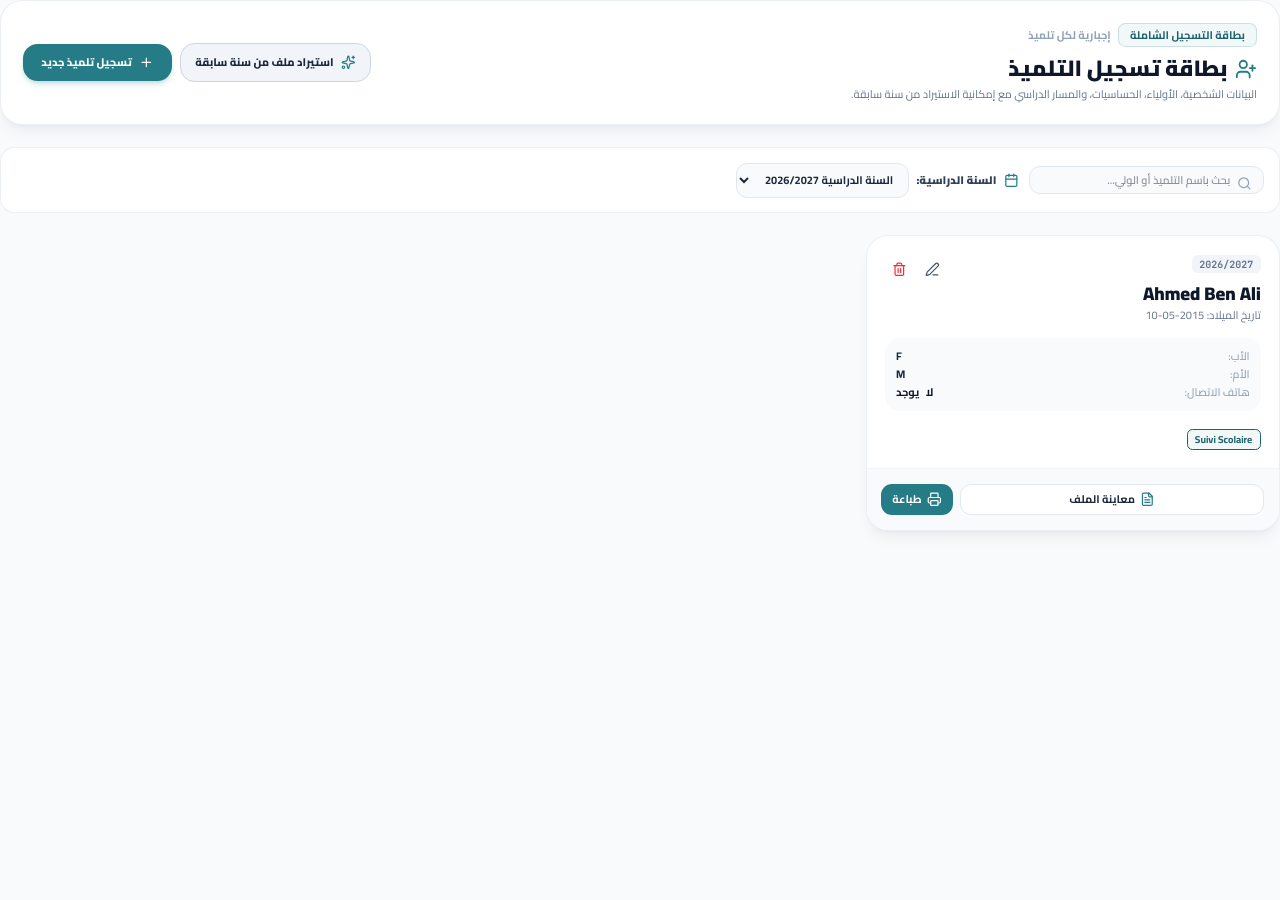
Test: StudentRegistrationModule remarks alignment — academic-history section (T019) › omits the whole academic-history section for a crèche (print + form)
The image size is (1280, 900).
Click the button titled "طباعة بطاقة التسجيل" at [917, 500], box [881,484,953,515]
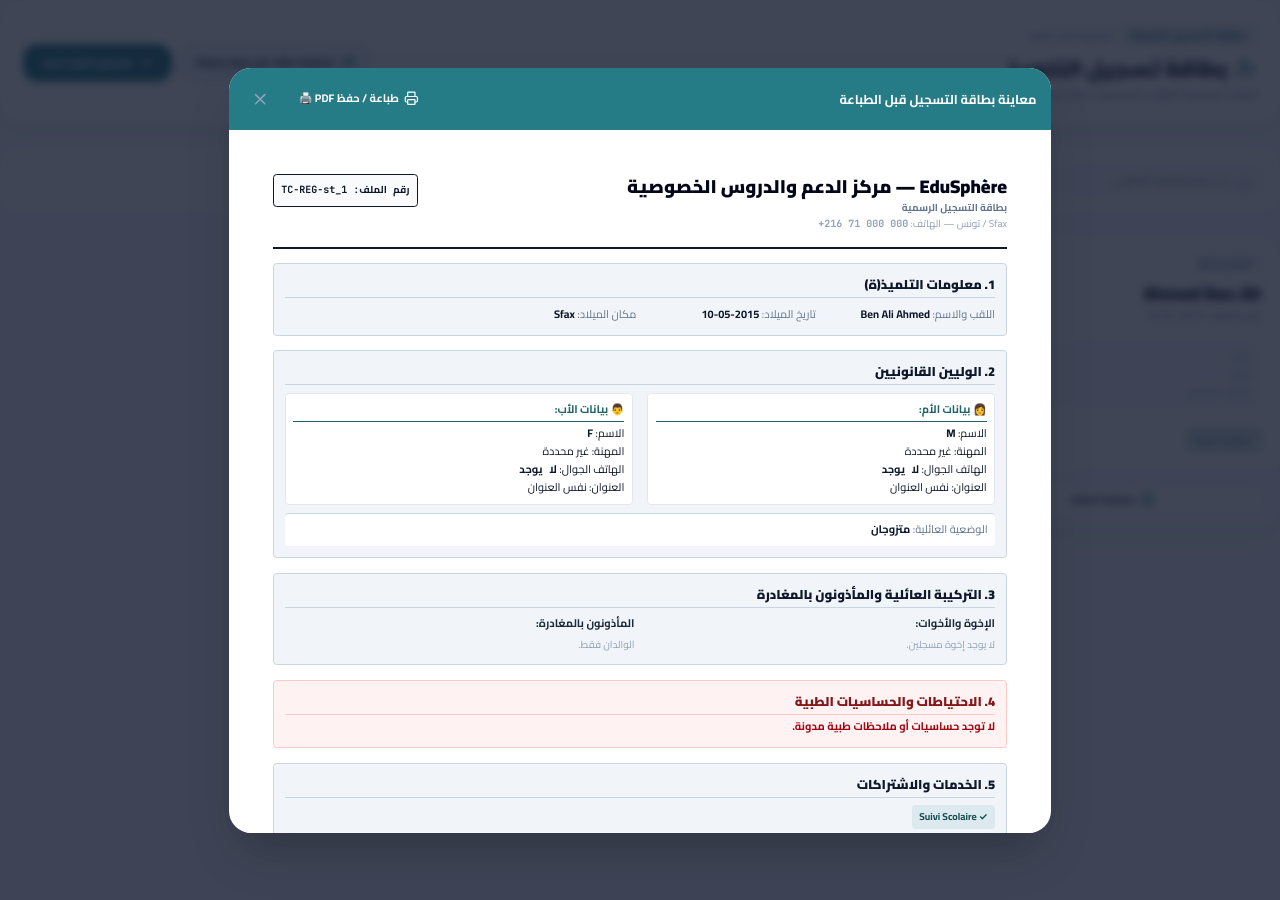
Click the button titled "إغلاق المعاينة" at [260, 99], box [244,82,277,115]
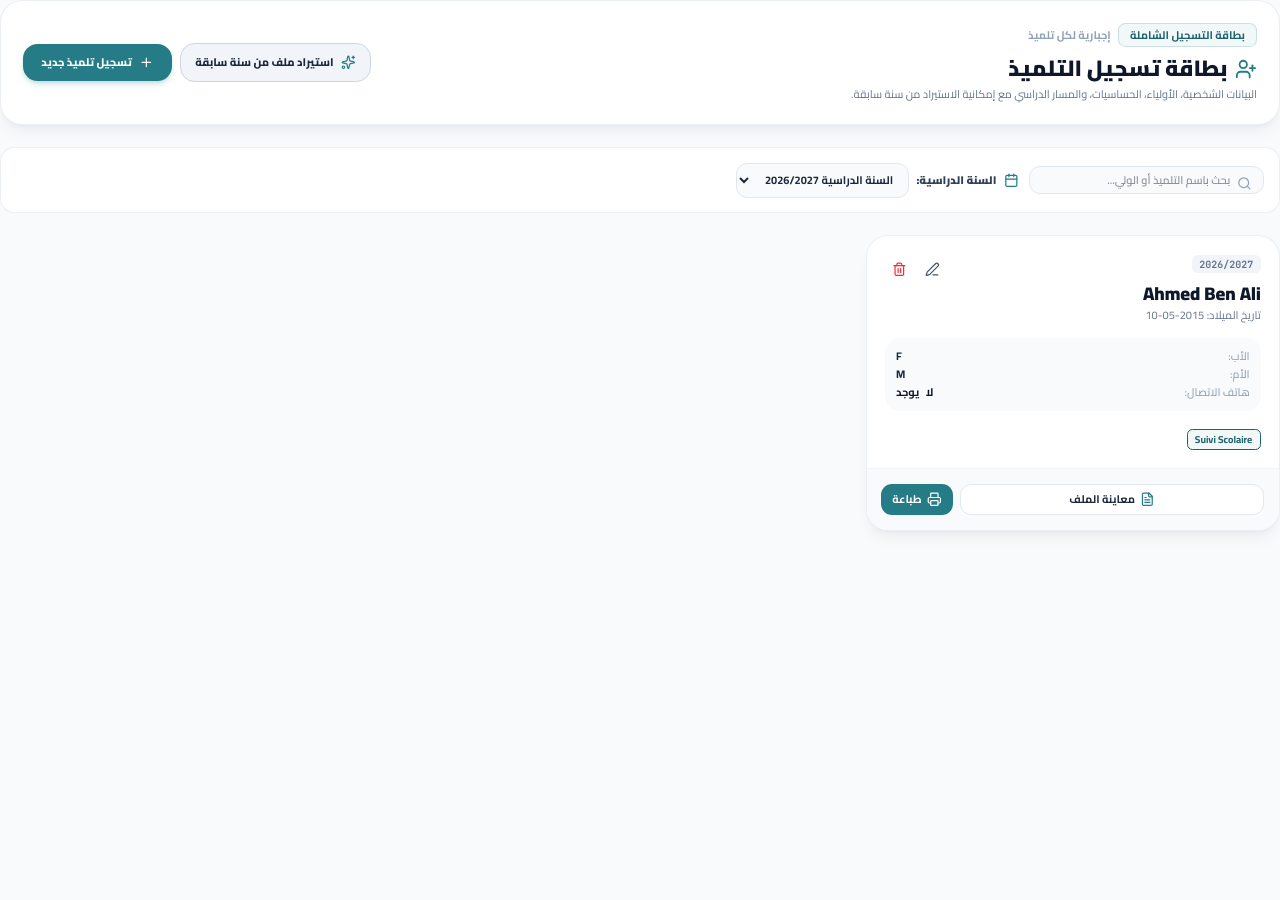
Click the button "تسجيل تلميذ جديد" at [98, 63], box [23,44,172,81]
(page scrolled)
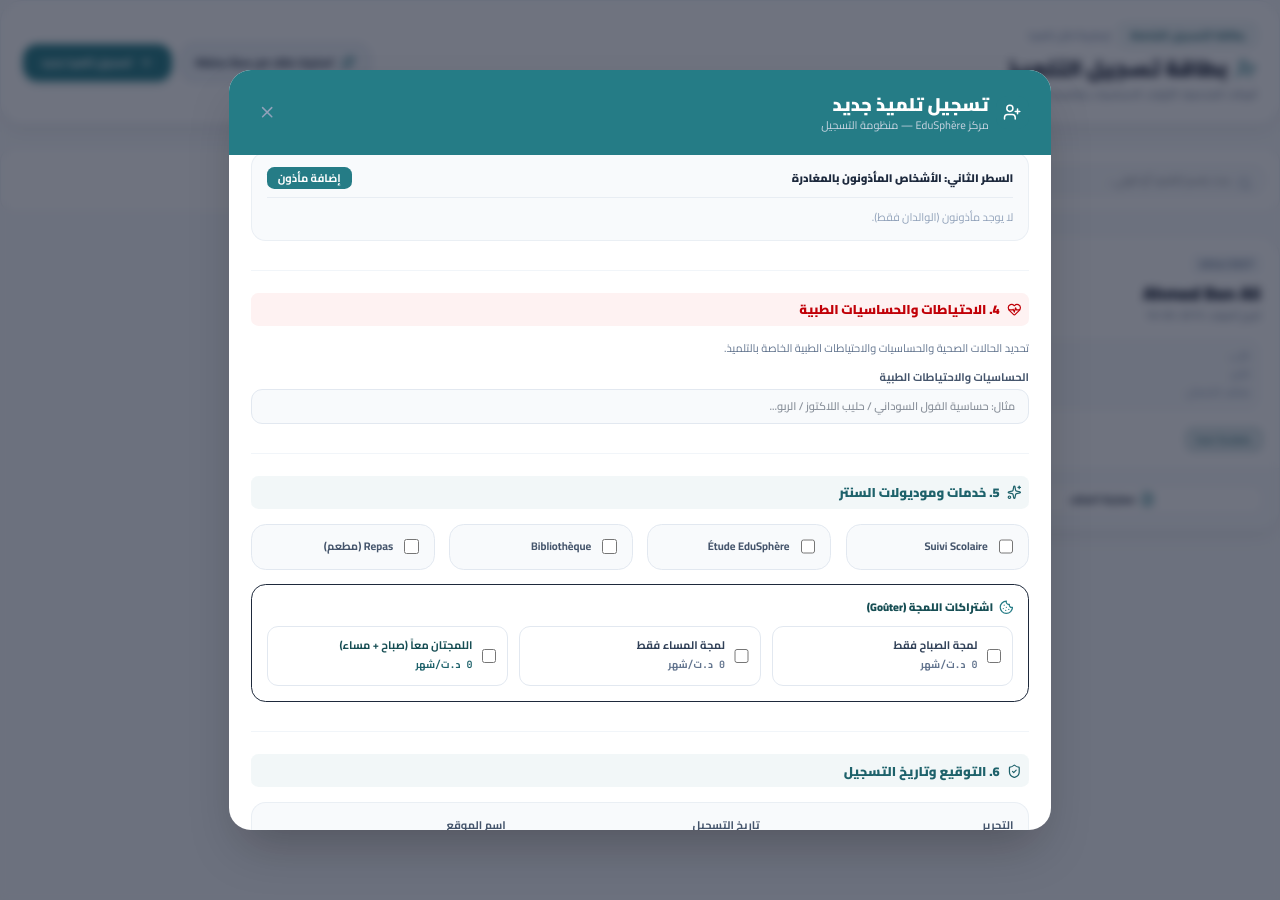
Result: the heading "5. خدمات وموديولات السنتر" is shown at [251,476,1029,509]
